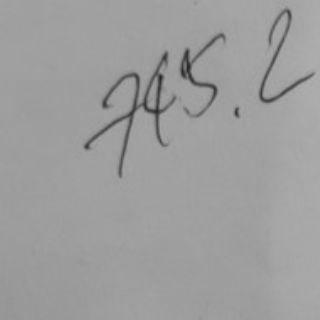.: (232, 103, 242, 122)
2: (257, 6, 315, 107)
4: (142, 52, 172, 155)
5: (181, 29, 224, 128)
7: (78, 69, 140, 181)
